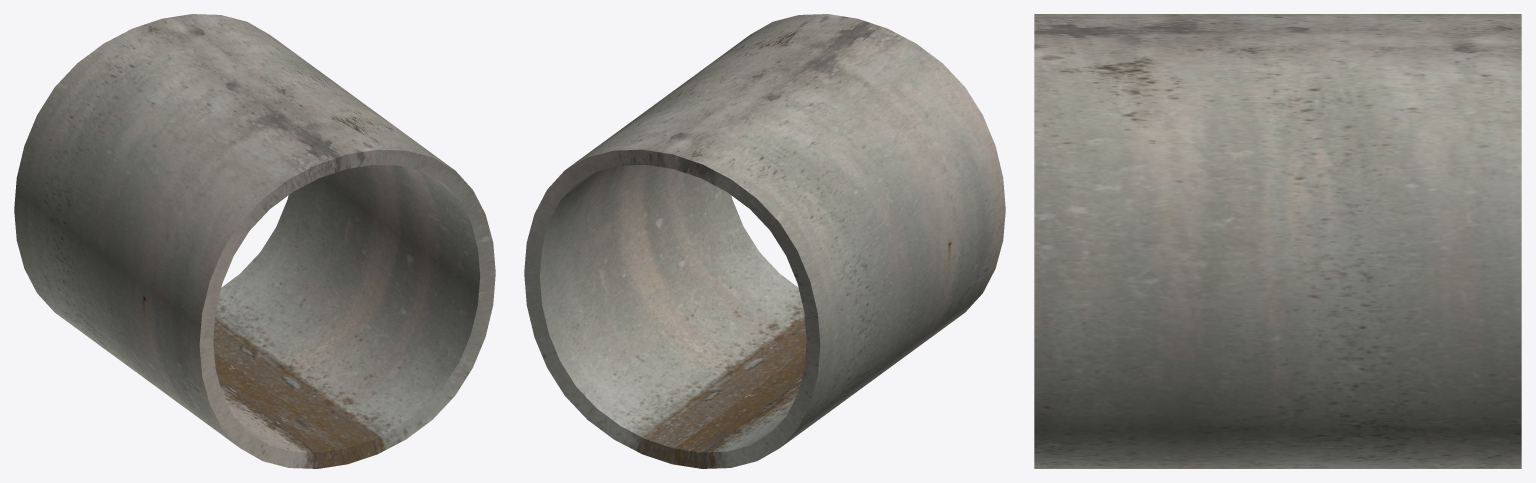
The model's file is Tube_1_mid.fbx.
The picture shows the model from 3 angles, left to right: view 1: azimuth 30°, elevation 25°; view 2: azimuth 150°, elevation 25°; view 3: azimuth 270°, elevation 25°; orthographic projection. The views are drawn at different scales.
Parts seen in each view (by area): view 1: Tube_1_mid; view 2: Tube_1_mid; view 3: Tube_1_mid.
Part boxes in pixels (<box>): Tube_1_mid: <box>14,14,495,468</box>; Tube_1_mid: <box>524,14,1005,468</box>; Tube_1_mid: <box>1034,14,1521,468</box>.
Size of the model in its own units: 369 by 369 by 400.
